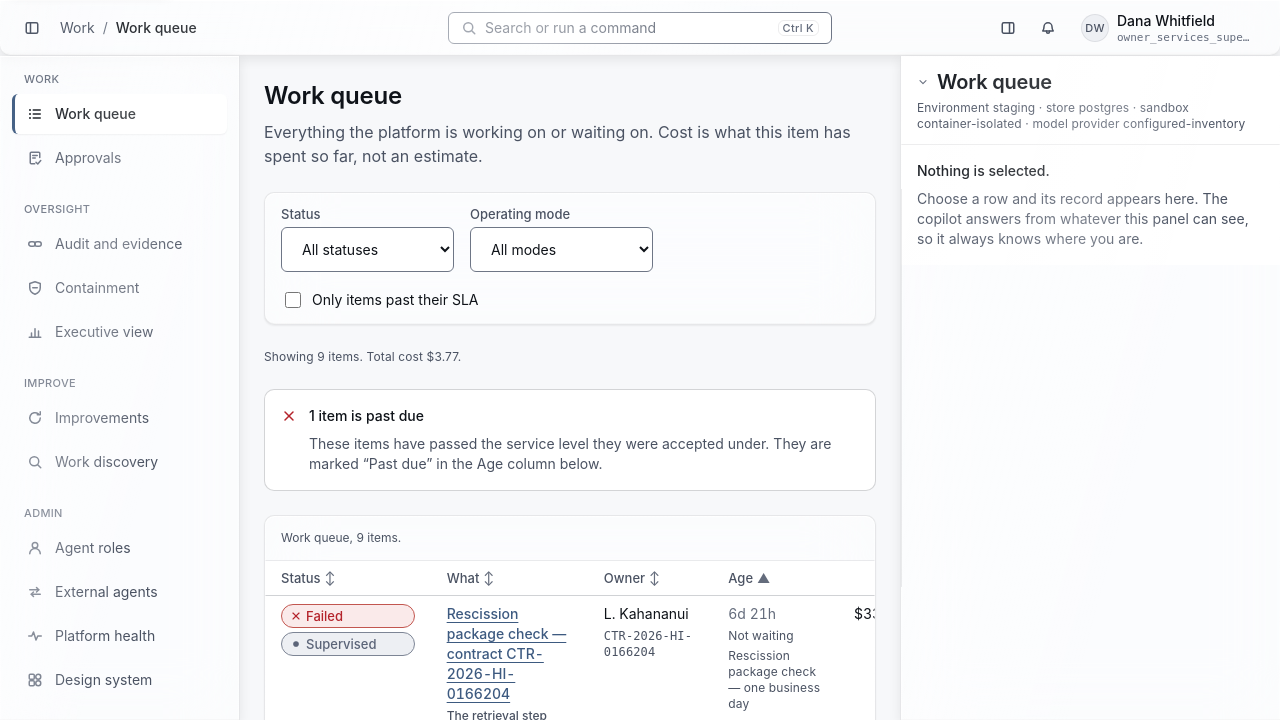
Test: App shell › reaches the design gallery, which is the review surface
The width and height of the screenshot is (1280, 720).
Click the link "Design system" at (90, 680), box [27,671,152,688]
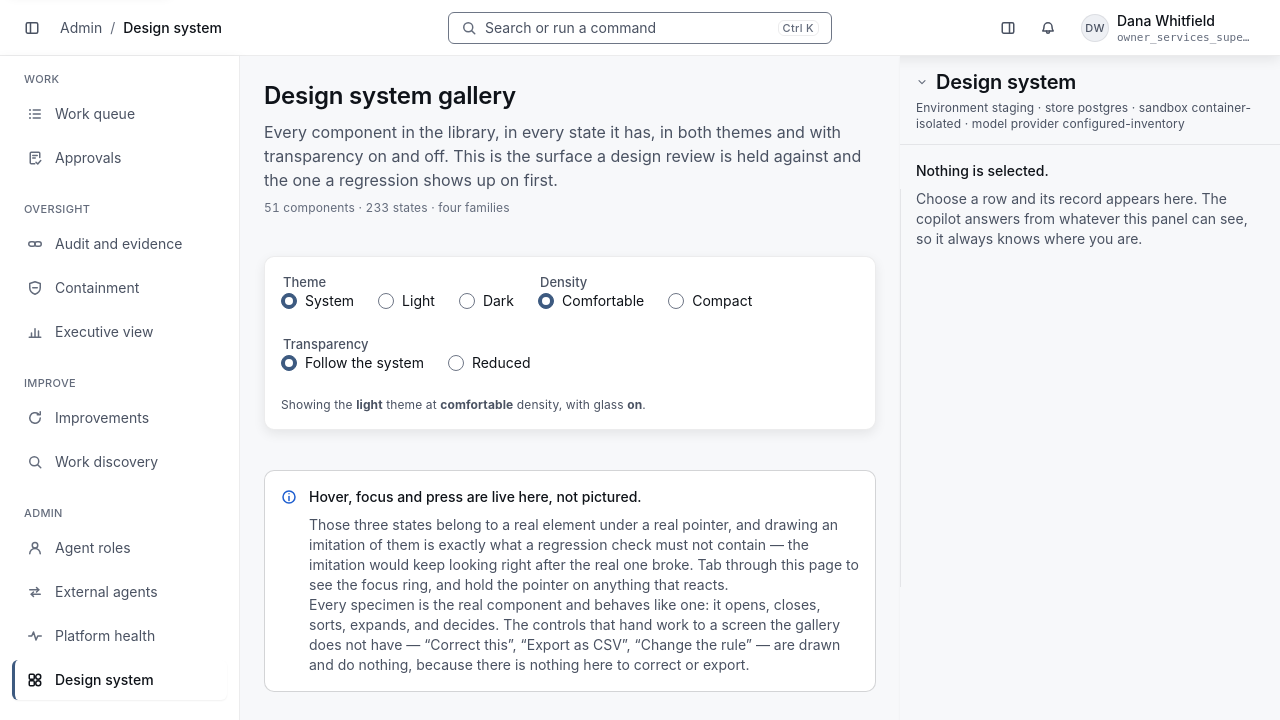
Expected: the heading "Design system gallery" is shown, [264,81,516,110]
